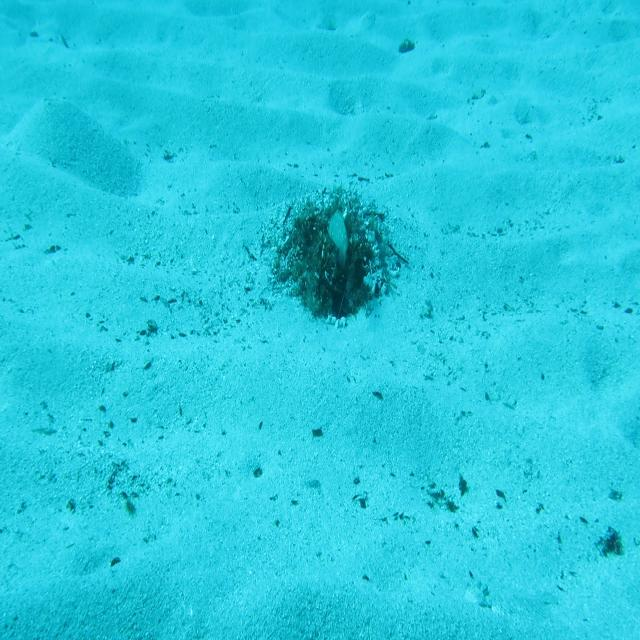INS: (326, 206, 351, 266)
nest: (276, 178, 412, 324)
